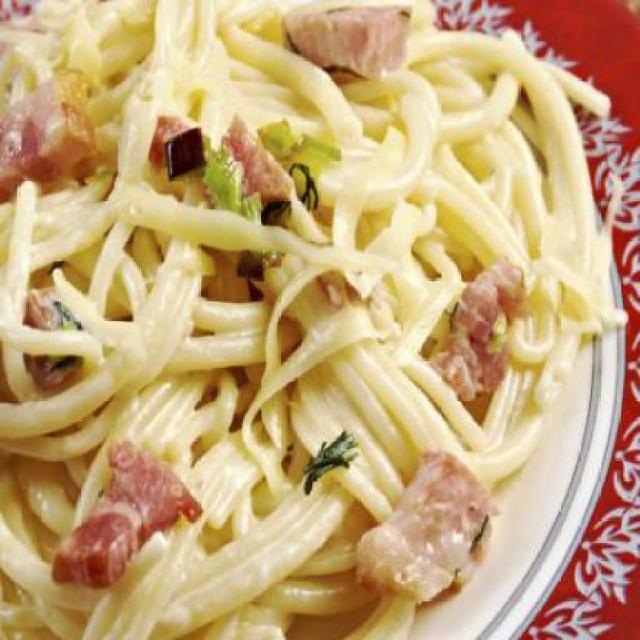Pasta with carbonara sauce: (14, 10, 594, 618)
